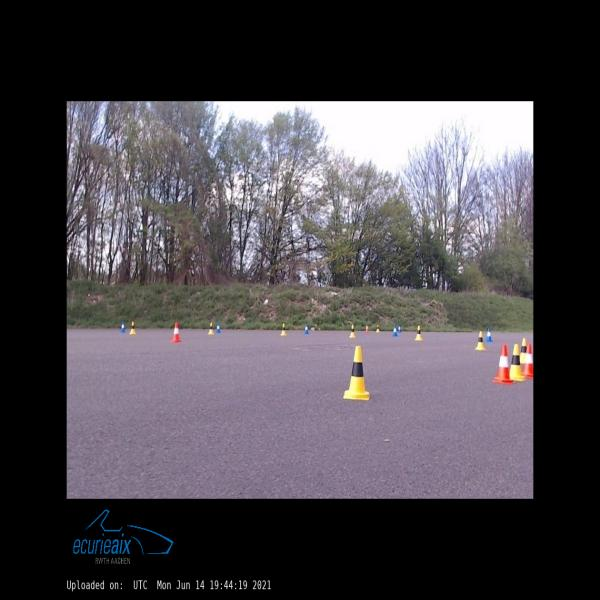blue_cone: (485, 327, 493, 342), (120, 321, 126, 332), (392, 325, 398, 336), (216, 322, 221, 332), (304, 324, 309, 334), (397, 326, 402, 332)
orange_cone: (492, 346, 514, 384), (522, 345, 533, 379), (171, 322, 181, 342), (365, 324, 369, 332)
yellow_cone: (344, 346, 369, 400), (510, 344, 525, 381), (475, 331, 486, 350), (520, 338, 527, 363), (415, 325, 422, 340), (280, 322, 287, 336), (129, 321, 136, 334), (349, 325, 356, 338), (208, 322, 214, 334), (376, 324, 379, 332)
